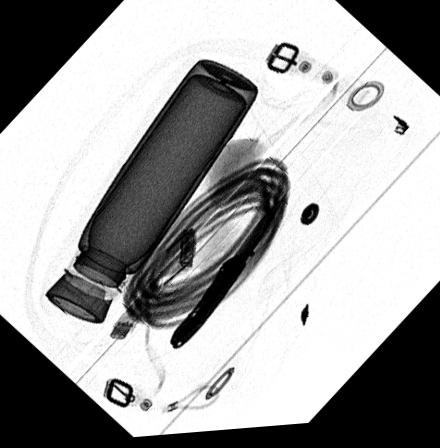Knife: (168, 197, 286, 353)
